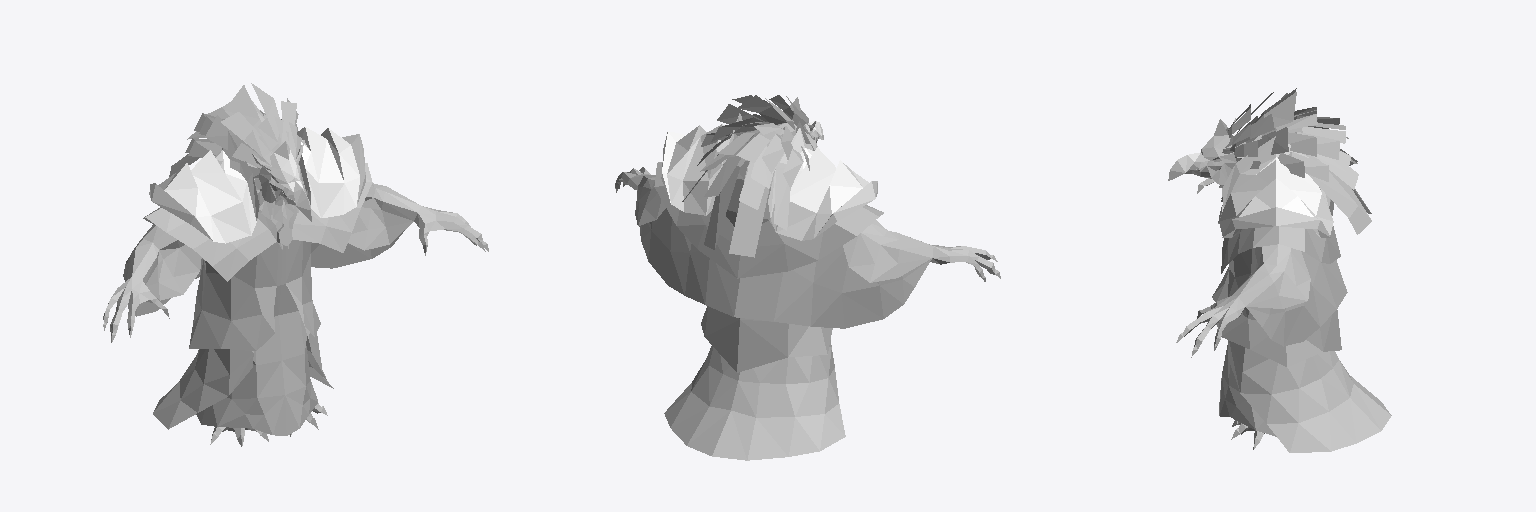
File: arakkoa_warrior.obj
The picture shows the model from 3 angles: view 1: azimuth 30°, elevation 25°; view 2: azimuth 150°, elevation 25°; view 3: azimuth 270°, elevation 25°; orthographic projection.
Visible parts, largest first — view 1: Geoset_000, Geoset_001; view 2: Geoset_000, Geoset_001; view 3: Geoset_000, Geoset_001.
Boxes of the visible parts, x1,y1,x2,y2 form: Geoset_000: [103, 83, 488, 446]; Geoset_001: [149, 119, 365, 243]; Geoset_000: [615, 95, 1000, 460]; Geoset_001: [661, 97, 877, 240]; Geoset_000: [1176, 88, 1391, 452]; Geoset_001: [1168, 119, 1333, 237].
Size of the model in its own units: 3.36 by 2.83 by 1.72.